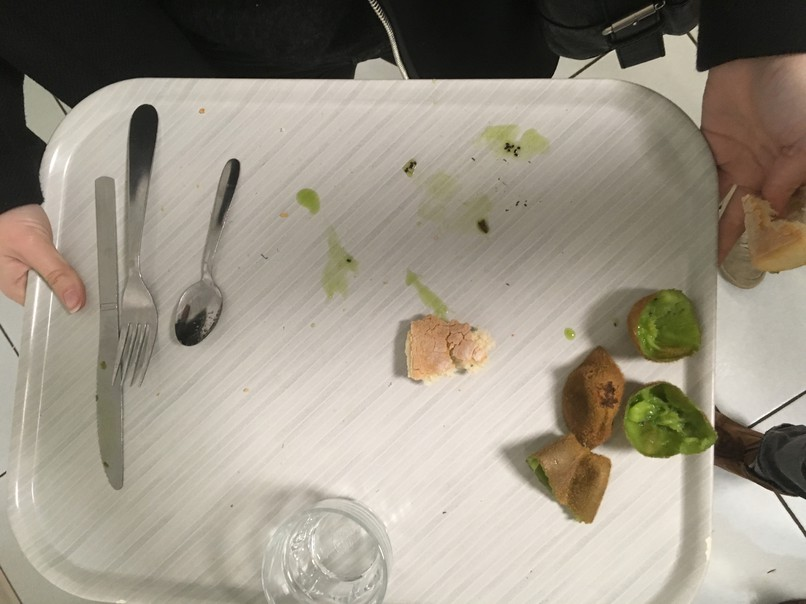cup: (254, 480, 392, 604)
cutlery: (117, 98, 168, 407), (81, 177, 129, 495), (177, 150, 248, 350)
orga: (530, 432, 610, 530), (625, 273, 708, 367), (624, 383, 720, 456), (399, 310, 496, 382), (572, 352, 626, 445), (742, 199, 806, 277)
